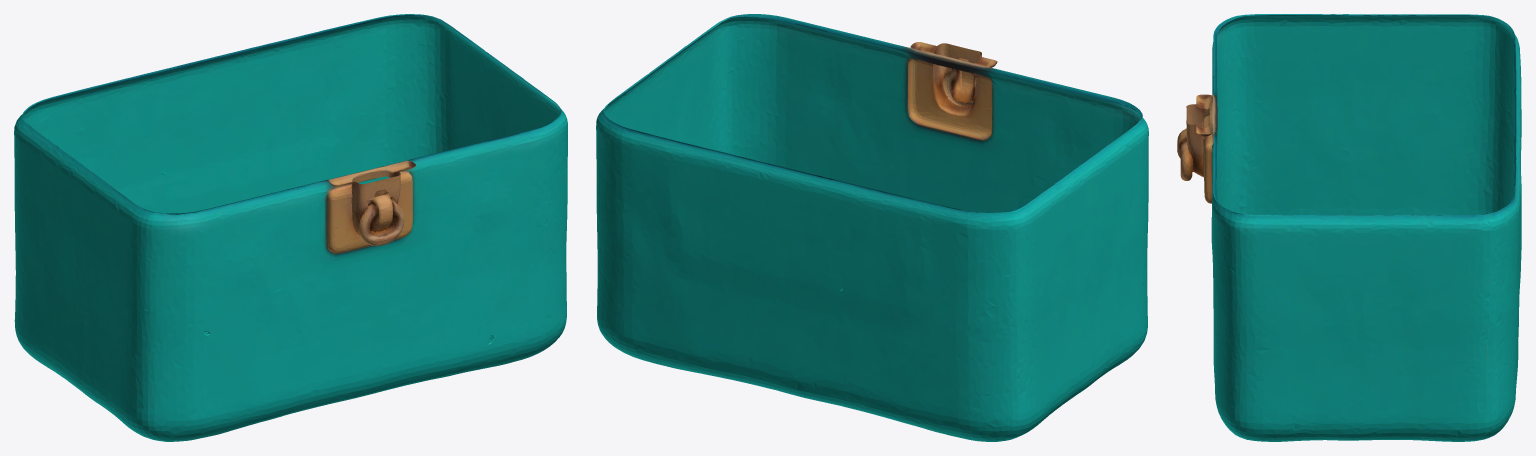
The model's file is body.glb.
The picture shows the model from 3 angles, left to right: view 1: azimuth 30°, elevation 25°; view 2: azimuth 150°, elevation 25°; view 3: azimuth 270°, elevation 25°; orthographic projection.
Parts seen in each view (by area): view 1: source_surface_0; view 2: source_surface_0; view 3: source_surface_0.
Part boxes in pixels (left/top/right/bottom): source_surface_0: left=14, top=14, right=567, bottom=441; source_surface_0: left=596, top=14, right=1148, bottom=441; source_surface_0: left=1177, top=14, right=1521, bottom=441.
Size of the model in its own units: 0.1799 by 0.0957 by 0.1261.
1 material, 1 textured.
